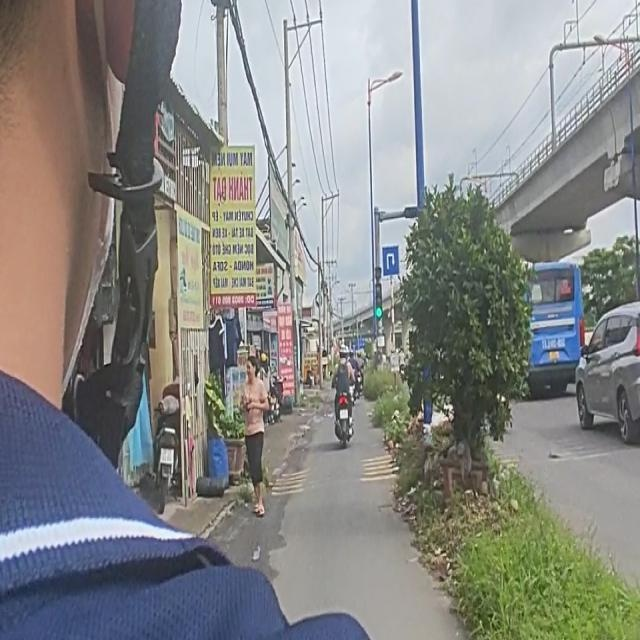I.409: (379, 243, 401, 279)
